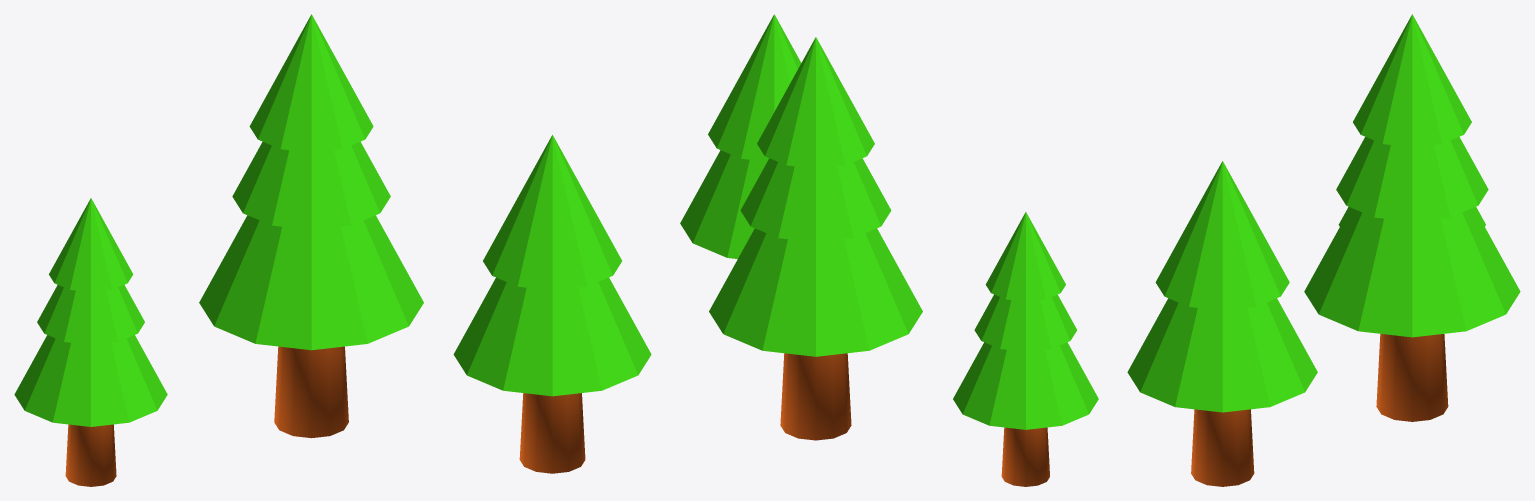
File: Trees01.fbx
3 views of the same model, side by side, from view 1: azimuth 30°, elevation 25°; view 2: azimuth 150°, elevation 25°; view 3: azimuth 270°, elevation 25° (orthographic). The views are drawn at different scales.
Visible parts, largest first — view 1: TreeS, TreeS.001, TreeL.001, TreeL; view 2: TreeS, TreeL.001, TreeS.001, TreeL; view 3: TreeS, TreeS.001, TreeL.
Part boxes in pixels (x1=…): TreeS: x1=199, y1=141, x2=423, y2=438; TreeS.001: x1=453, y1=135, x2=651, y2=473; TreeL.001: x1=14, y1=198, x2=167, y2=486; TreeL: x1=249, y1=14, x2=373, y2=152; TreeS: x1=709, y1=158, x2=922, y2=440; TreeL.001: x1=953, y1=212, x2=1098, y2=486; TreeS.001: x1=680, y1=14, x2=801, y2=258; TreeL: x1=757, y1=37, x2=874, y2=168; TreeS: x1=1304, y1=137, x2=1520, y2=421; TreeS.001: x1=1127, y1=161, x2=1317, y2=486; TreeL: x1=1353, y1=14, x2=1471, y2=147.
Bounding box in the file's own units: 1593 × 1207 × 1095.
